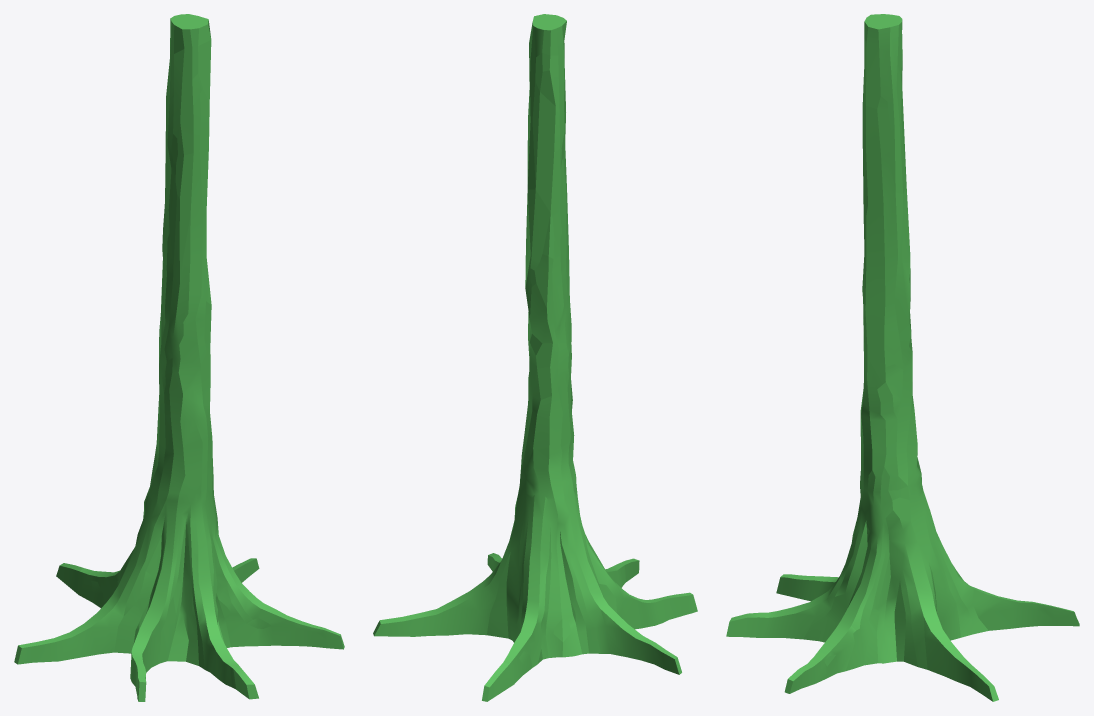
The model's file is jungle_big_tree_E.fbx.
3 renders of one model, left to right at view 1: azimuth 30°, elevation 25°; view 2: azimuth 150°, elevation 25°; view 3: azimuth 270°, elevation 25°, orthographic. The views are drawn at different scales.
Parts seen in each view (by area): view 1: jungle_big_tree_E; view 2: jungle_big_tree_E; view 3: jungle_big_tree_E.
Boxes of the visible parts, x1,y1,x2,y2 form: jungle_big_tree_E: [14, 14, 344, 701]; jungle_big_tree_E: [373, 14, 697, 701]; jungle_big_tree_E: [726, 14, 1079, 701].
Size of the model in its own units: 326 by 688 by 356.
